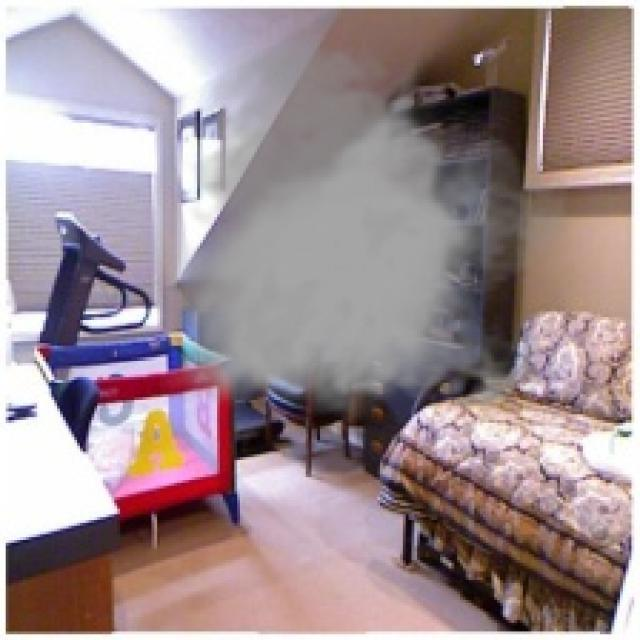Smoke: (160, 40, 569, 423)
